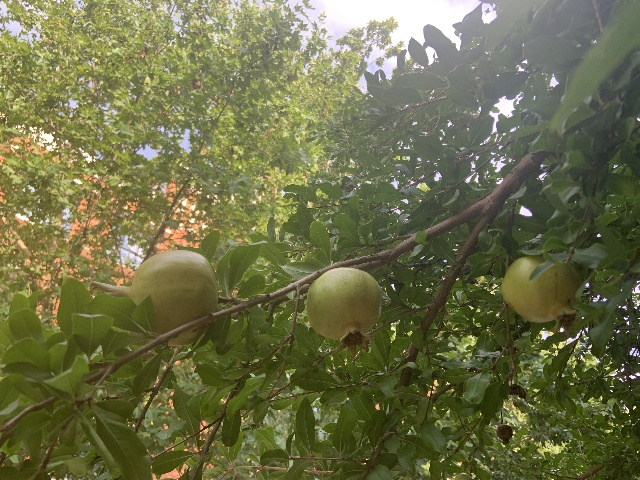mid-growth: (89, 249, 218, 346), (305, 266, 382, 360), (502, 255, 583, 336)
